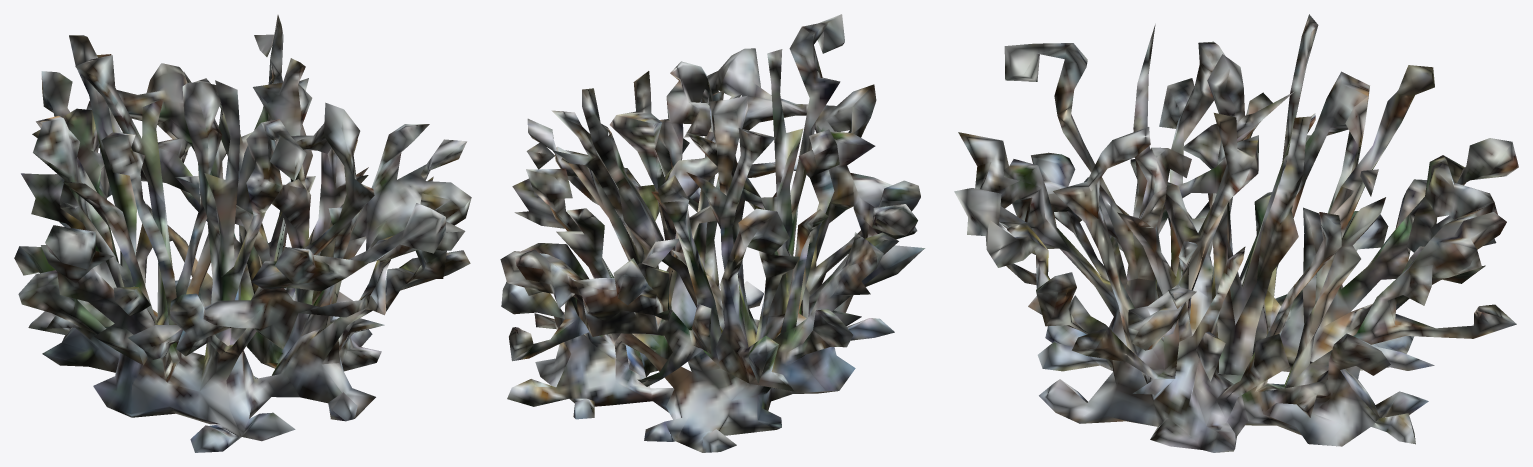
The model's file is FirstRoom_SnowShrub.fbx.
The picture shows the model from 3 angles, left to right: view 1: azimuth 30°, elevation 25°; view 2: azimuth 150°, elevation 25°; view 3: azimuth 270°, elevation 25°; orthographic projection. The views are drawn at different scales.
Parts seen in each view (by area): view 1: FirstRoom_SnowShrub_Mesh; view 2: FirstRoom_SnowShrub_Mesh; view 3: FirstRoom_SnowShrub_Mesh.
Boxes of the visible parts, x1=… form: FirstRoom_SnowShrub_Mesh: x1=14, y1=15, x2=471, y2=452; FirstRoom_SnowShrub_Mesh: x1=500, y1=14, x2=925, y2=452; FirstRoom_SnowShrub_Mesh: x1=954, y1=14, x2=1518, y2=452.
Size of the model in its own units: 5.37 by 4.11 by 6.
Materials: 1 (1 with a texture image).
